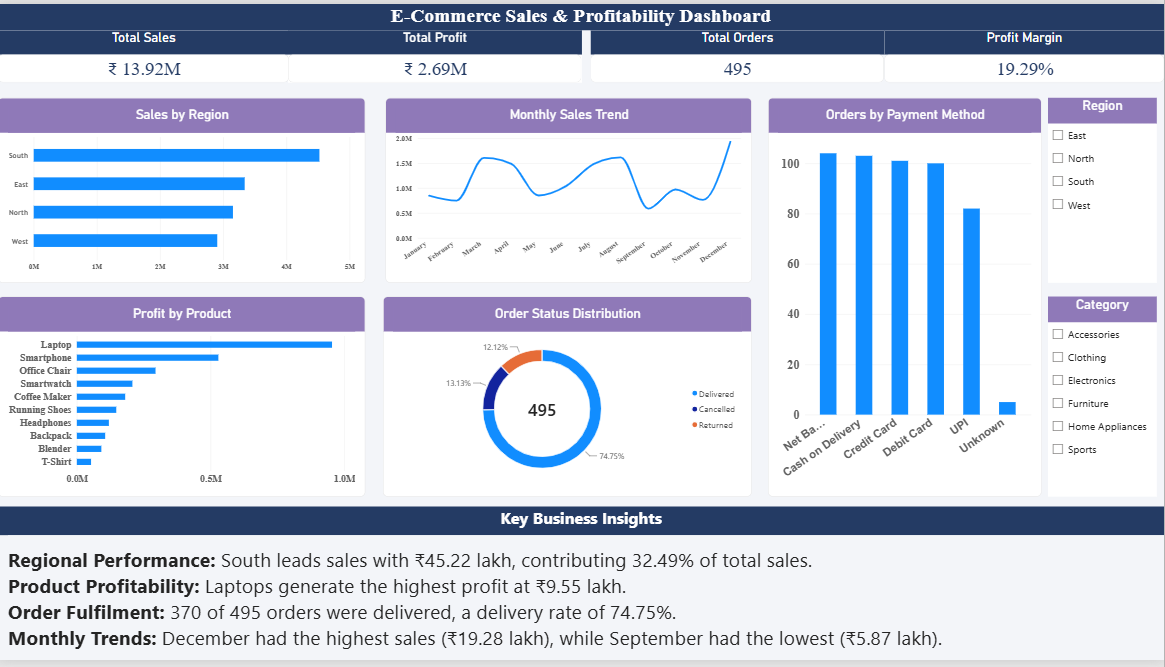

Layout of this report page (visuals, bound fields, positions):
{"tool":"powerbi","page":{"name":"Page 2","canvas":[1920,1080],"ordinal":1},"visuals":[{"type":"cardVisual","title":"Total Sales","fields":{"Data":["Sum(Ecommerce_cleaning.Sales)"]},"box":[0,43.2,479.6,86.4],"z":0},{"type":"cardVisual","title":"Total Profit","fields":{"Data":["Sum(Ecommerce_cleaning.Profit)"]},"box":[477.5,43.2,483.7,86.4],"z":1000},{"type":"cardVisual","title":"Profit Margin","fields":{"Data":["Ecommerce_cleaning.profit margin"]},"box":[1459.4,43.2,461.1,86.4],"z":2000},{"type":"cardVisual","title":"Total Orders","fields":{"Data":["CountNonNull(Ecommerce_cleaning.Order_ID)"]},"box":[975.6,43.2,483.7,86.4],"z":3000},{"type":"textbox","box":[0,0,1920.4,43.2],"z":4000},{"type":"clusteredBarChart","title":"Sales by Region","fields":{"Category":["Ecommerce_cleaning.Clean_region"],"Y":["Sum(Ecommerce_cleaning.Sales)"]},"box":[0,154.4,605.1,304.6],"z":5000},{"type":"lineChart","title":"Monthly Sales Trend","fields":{"Y":["Sum(Ecommerce_cleaning.Sales)"],"Category":["Ecommerce_cleaning.Order_Date.Variation.Date Hierarchy.Month"]},"box":[638.1,154.4,603.1,304.6],"z":6000},{"type":"clusteredBarChart","title":"Profit by Product","fields":{"Category":["Ecommerce_cleaning.Product"],"Y":["Sum(Ecommerce_cleaning.Profit)"]},"box":[0,481.6,605.1,329.3],"z":7000},{"type":"donutChart","title":"Order Status Distribution","fields":{"Category":["Ecommerce_cleaning.Order_Status"],"Y":["CountNonNull(Ecommerce_cleaning.Order_ID)"]},"box":[634,481.6,607.2,329.3],"z":8000},{"type":"columnChart","title":"Orders by Payment Method","fields":{"Category":["Ecommerce_cleaning.Payment_Method"],"Y":["CountNonNull(Ecommerce_cleaning.Order_ID)"]},"box":[1267.9,154.4,450.8,656.6],"z":9000},{"type":"slicer","title":"Region","fields":{"Values":["Ecommerce_cleaning.Clean_region"]},"box":[1729,154.4,179.1,304.6],"z":10000},{"type":"slicer","title":"Category","fields":{"Values":["Ecommerce_cleaning.Category"]},"box":[1729,481.6,179.1,329.3],"z":11000},{"type":"textbox","box":[0,827.4,1920.4,47.3],"z":14000},{"type":"textbox","box":[16.5,874.8,1904,205.8],"z":15000}]}

Visuals, with their boxes in screenshot pixels (x1, y1, x2, y2), scaled from the page's 1920x1080 canvas onto the 1165x667 screenshot:
"Total Sales" cardVisual: locate(0, 27, 291, 80)
"Total Profit" cardVisual: locate(290, 27, 583, 80)
"Profit Margin" cardVisual: locate(886, 27, 1164, 80)
"Total Orders" cardVisual: locate(592, 27, 885, 80)
textbox: locate(0, 0, 1164, 27)
"Sales by Region" clusteredBarChart: locate(0, 95, 367, 283)
"Monthly Sales Trend" lineChart: locate(387, 95, 753, 283)
"Profit by Product" clusteredBarChart: locate(0, 297, 367, 501)
"Order Status Distribution" donutChart: locate(385, 297, 753, 501)
"Orders by Payment Method" columnChart: locate(769, 95, 1043, 501)
"Region" slicer: locate(1049, 95, 1158, 283)
"Category" slicer: locate(1049, 297, 1158, 501)
textbox: locate(0, 511, 1164, 540)
textbox: locate(10, 540, 1164, 666)
